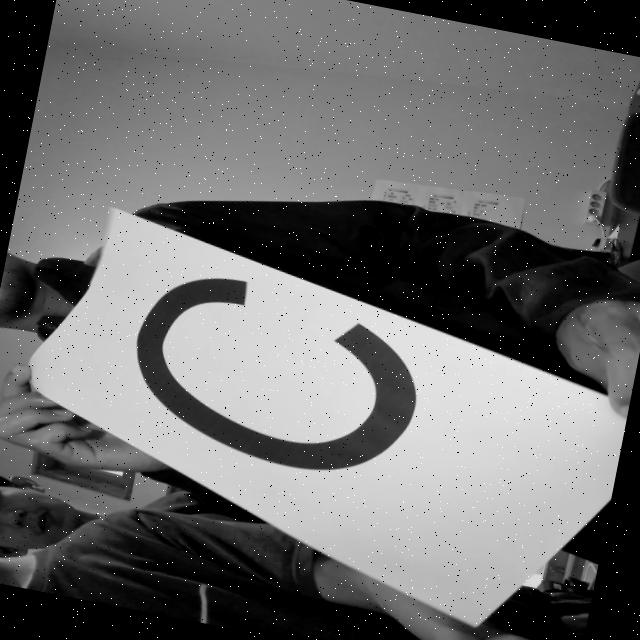c: (102, 249, 457, 499)
